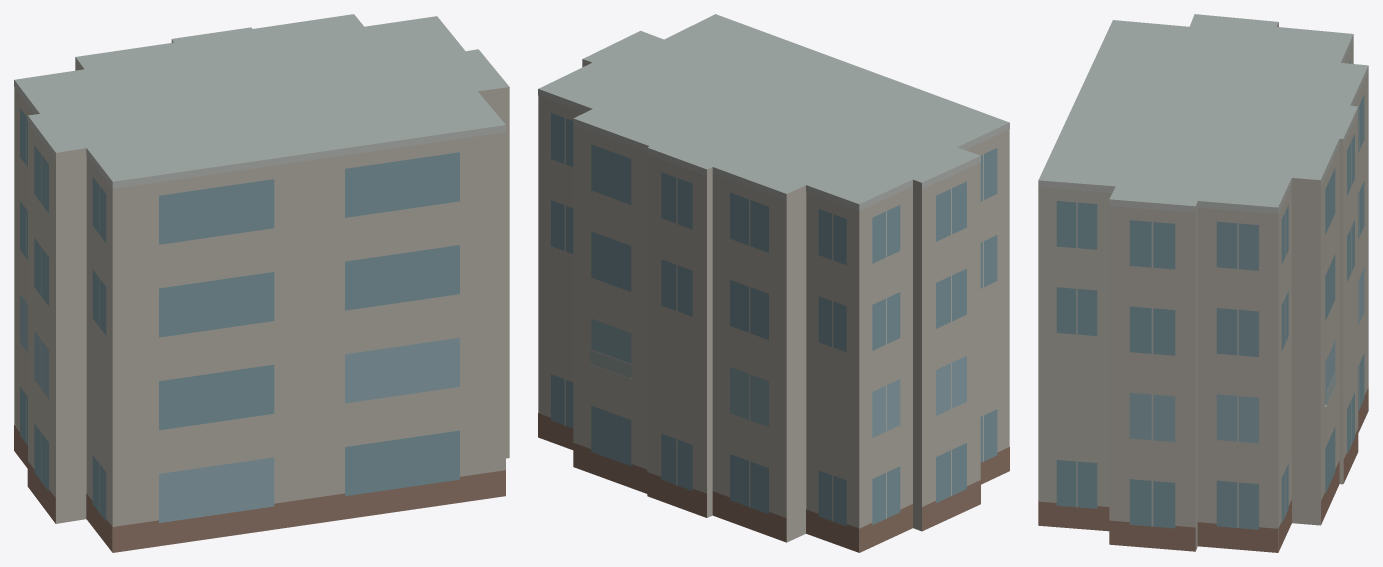
Rendered from survey-upis-32935210.glb.
3 renders of one model, left to right at view 1: azimuth 30°, elevation 25°; view 2: azimuth 150°, elevation 25°; view 3: azimuth 270°, elevation 25°, orthographic. The views are drawn at different scales.
Visible parts, largest first — view 1: survey-upis-32935210.tmp; view 2: survey-upis-32935210.tmp; view 3: survey-upis-32935210.tmp.
Boxes of the visible parts, <box> form: survey-upis-32935210.tmp: <box>14,14,509,552</box>; survey-upis-32935210.tmp: <box>538,14,1009,552</box>; survey-upis-32935210.tmp: <box>1038,14,1368,552</box>.
Bounding box in the file's own units: 15.28 × 12.7 × 11.02.
